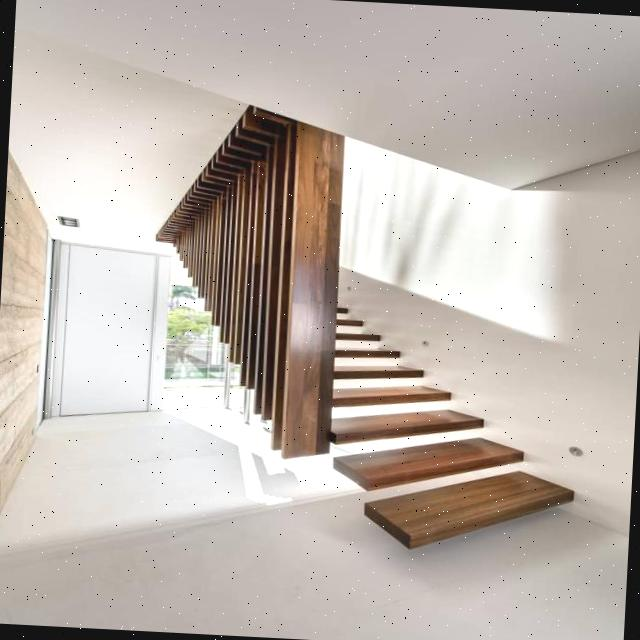stairs: (322, 304, 584, 558)
